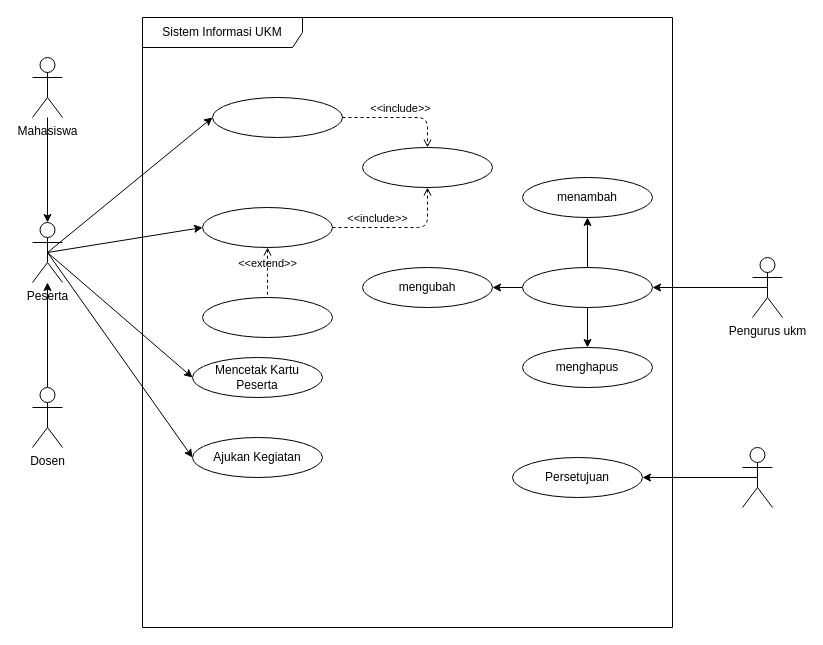
The diagram is 823 pixels wide and 645 high, and some of its shapes have lost their labels. Each missing label, with the centre of its shape:
Kelola data kegiatan: [587,287]
Kuota Peserta: [427,167]
Melihat daftar kegiatan: [277,117]
membatalkan pendaftaran: [267,317]
Mendaftarkan Peserta: [267,227]
Pembina UKM: [757,477]
